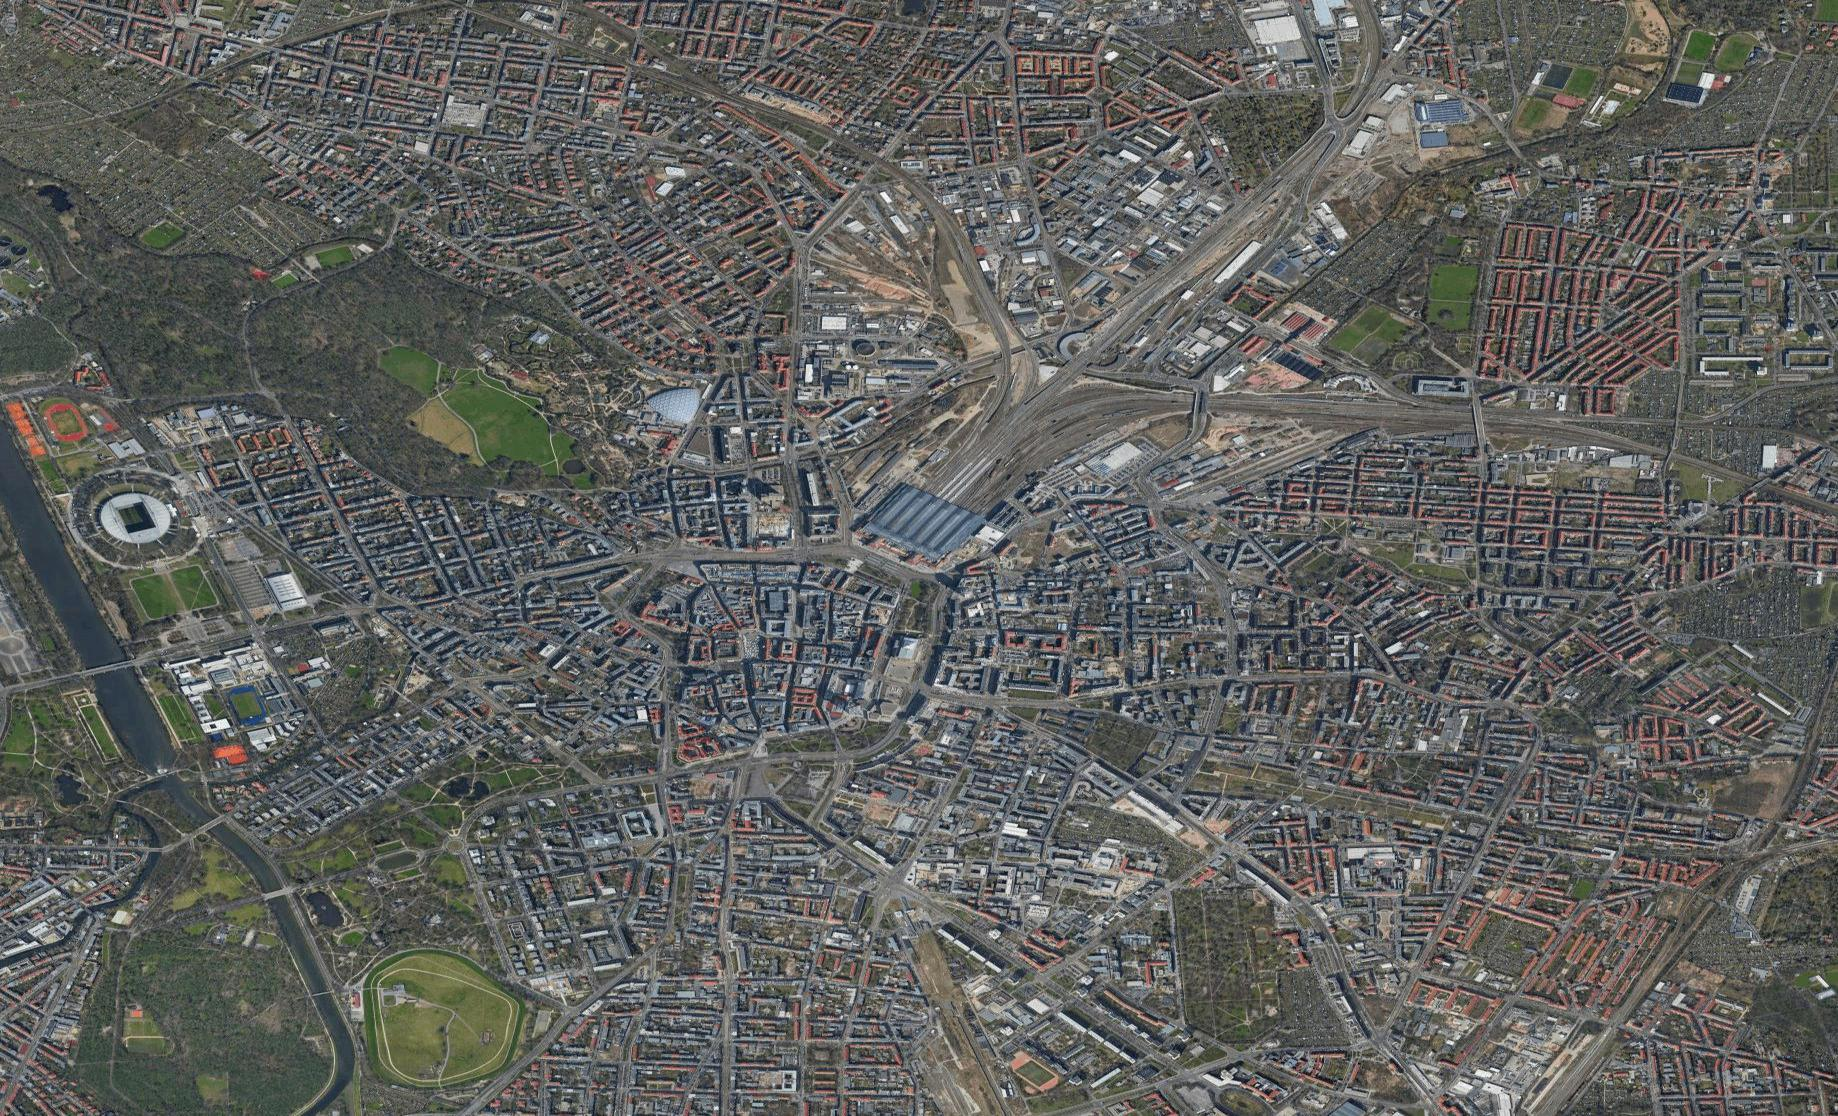bridge: (77, 653, 142, 683), (197, 809, 228, 838), (260, 877, 291, 905), (1189, 386, 1214, 419), (1463, 399, 1487, 432), (307, 983, 337, 1003)
train_station: (840, 449, 1010, 579)
